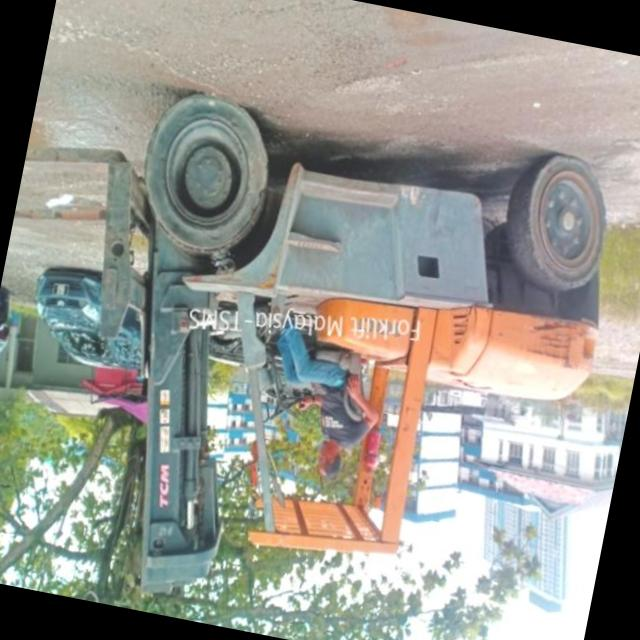driver: (256, 314, 402, 493)
forklift: (14, 15, 640, 640)
